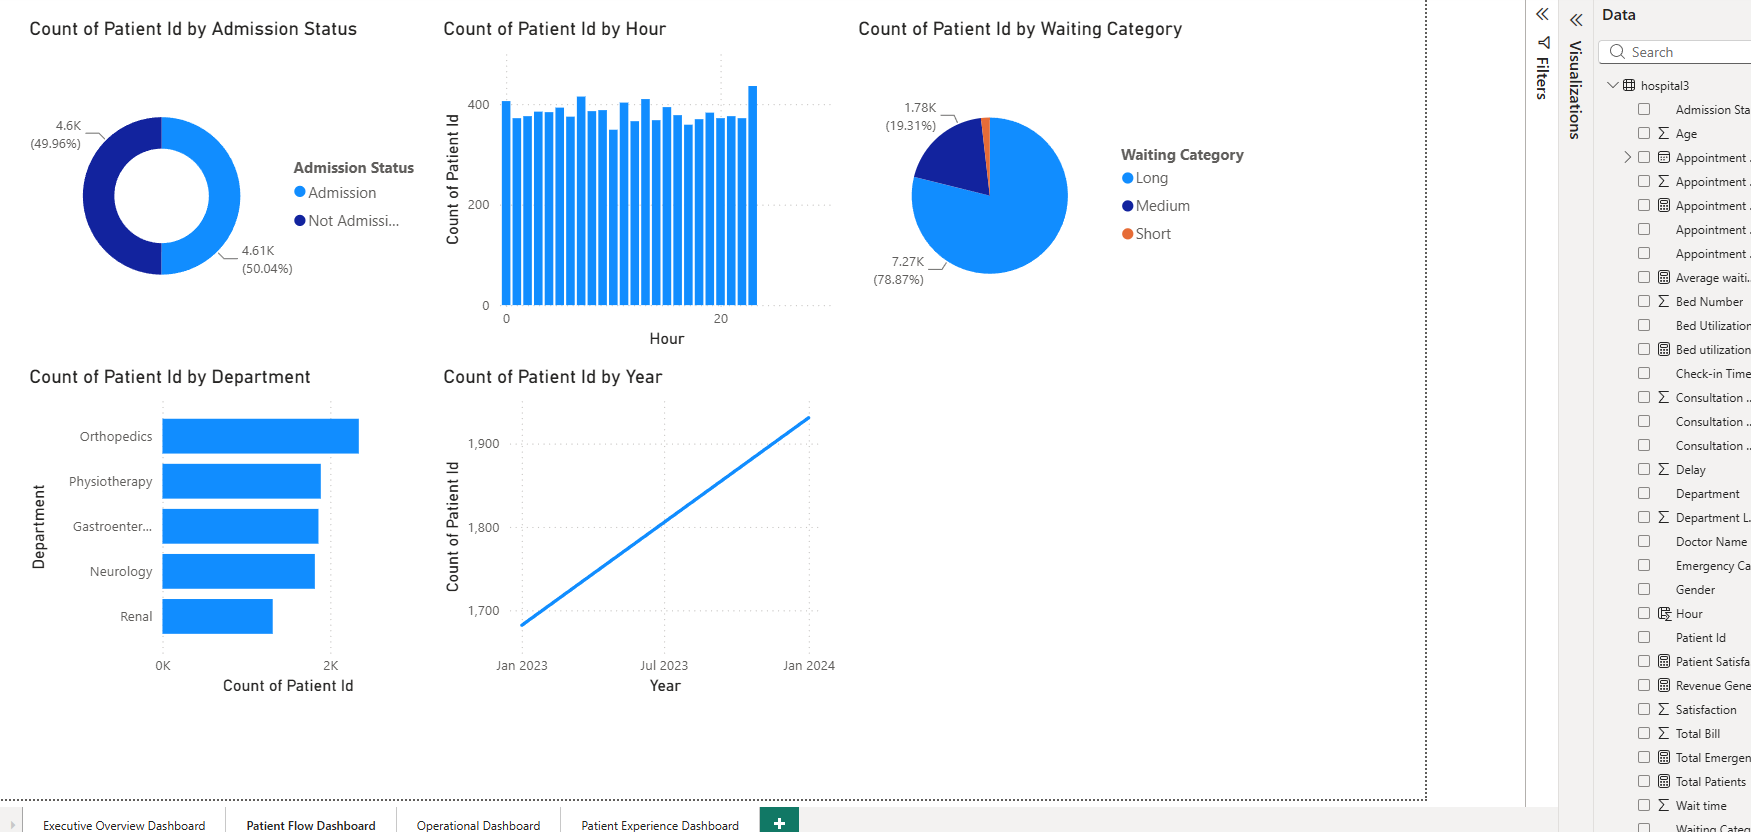

Layout of this report page (visuals, bound fields, positions):
{"tool":"powerbi","page":{"name":"Patient Flow Dashboard","canvas":[1280,720],"ordinal":1},"visuals":[{"type":"donutChart","fields":{"Category":["hospital3.Admission Status"],"Y":["CountNonNull(hospital3.Patient Id)"]},"box":[25.7,20,361.4,301.4],"z":0},{"type":"clusteredBarChart","fields":{"Category":["hospital3.Department"],"Y":["CountNonNull(hospital3.Patient Id)"]},"box":[25.7,331.4,361.4,300],"z":1000},{"type":"clusteredColumnChart","fields":{"Category":["hospital3.Hour"],"Y":["CountNonNull(hospital3.Patient Id)"]},"box":[397,20,361,301],"z":2000},{"type":"lineChart","fields":{"Category":["hospital3.Appointment Date.Variation.Date Hierarchy.Year","hospital3.Appointment Date.Variation.Date Hierarchy.Quarter","hospital3.Appointment Date.Variation.Date Hierarchy.Month","hospital3.Appointment Date.Variation.Date Hierarchy.Day"],"Y":["CountNonNull(hospital3.Patient Id)"]},"box":[397,331,361,300],"z":3000},{"type":"pieChart","fields":{"Category":["hospital3.Waiting Category"],"Y":["CountNonNull(hospital3.Patient Id)"]},"box":[768,20,361,301],"z":4000}]}

Visuals, with their boxes on the page's 1280x720 design canvas (x1, y1, x2, y2). These are canvas units, not pixel positions in the 1751x832 screenshot, which may show the page scaled, cropped or inside an application window:
donutChart - hospital3.Admission Status x CountNonNull(hospital3.Patient Id): left=26, top=20, right=387, bottom=321
clusteredBarChart - hospital3.Department x CountNonNull(hospital3.Patient Id): left=26, top=331, right=387, bottom=631
clusteredColumnChart - hospital3.Hour x CountNonNull(hospital3.Patient Id): left=397, top=20, right=758, bottom=321
lineChart - hospital3.Appointment Date.Variation.Date Hierarchy.Year x hospital3.Appointment Date.Variation.Date Hierarchy.Quarter: left=397, top=331, right=758, bottom=631
pieChart - hospital3.Waiting Category x CountNonNull(hospital3.Patient Id): left=768, top=20, right=1129, bottom=321
